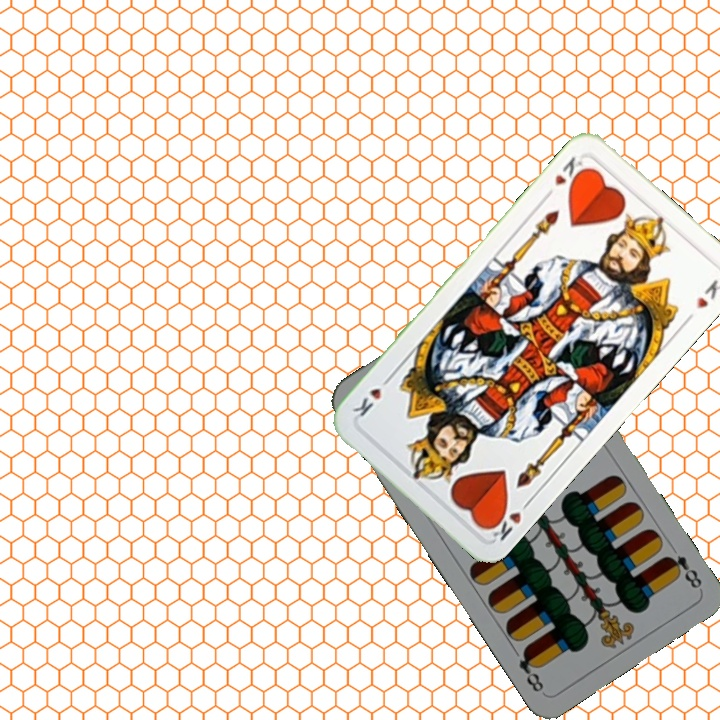E8: (660, 551, 705, 592)
HK: (483, 495, 535, 544), (540, 152, 589, 201)
